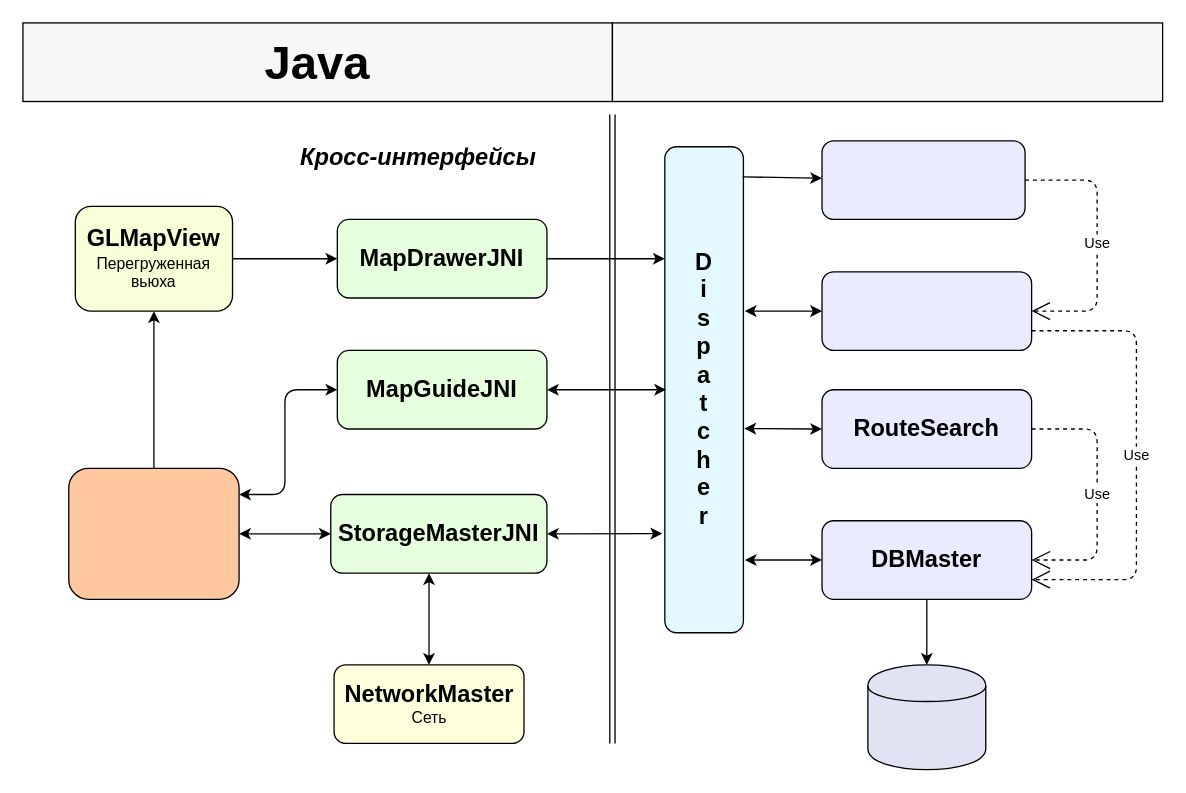
This 1186x793 diagram has some shape labels left out. The shapes that lost their labels are listed below. From the top down, each one's centre as x and y in pixels, then its label:
At pixel 887 62: "C++".
At pixel 923 179: "MapDrawer".
At pixel 926 310: "GraphicsStorage".
At pixel 153 533: "MainActivity Интерфейс".
At pixel 926 717: "MapDB".
